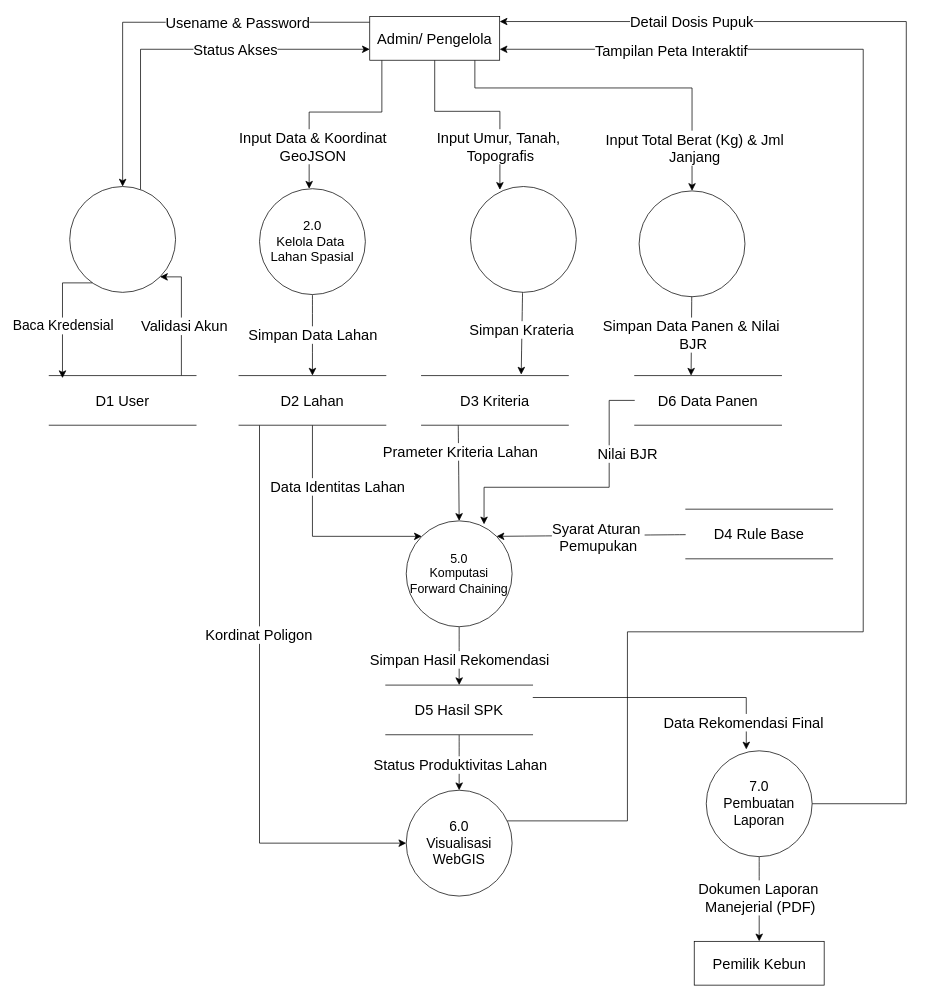
This 926x998 diagram has some shape labels left out. Here are the shapes that lost their labels. From the top down, the centre of each, then its label:
At point 122,239: "1.0 Otentikasi Login".
At point 523,239: "3.0 Input Kriteria Lahan".
At point 691,243: "4.0 Manajemen Data Panen".
